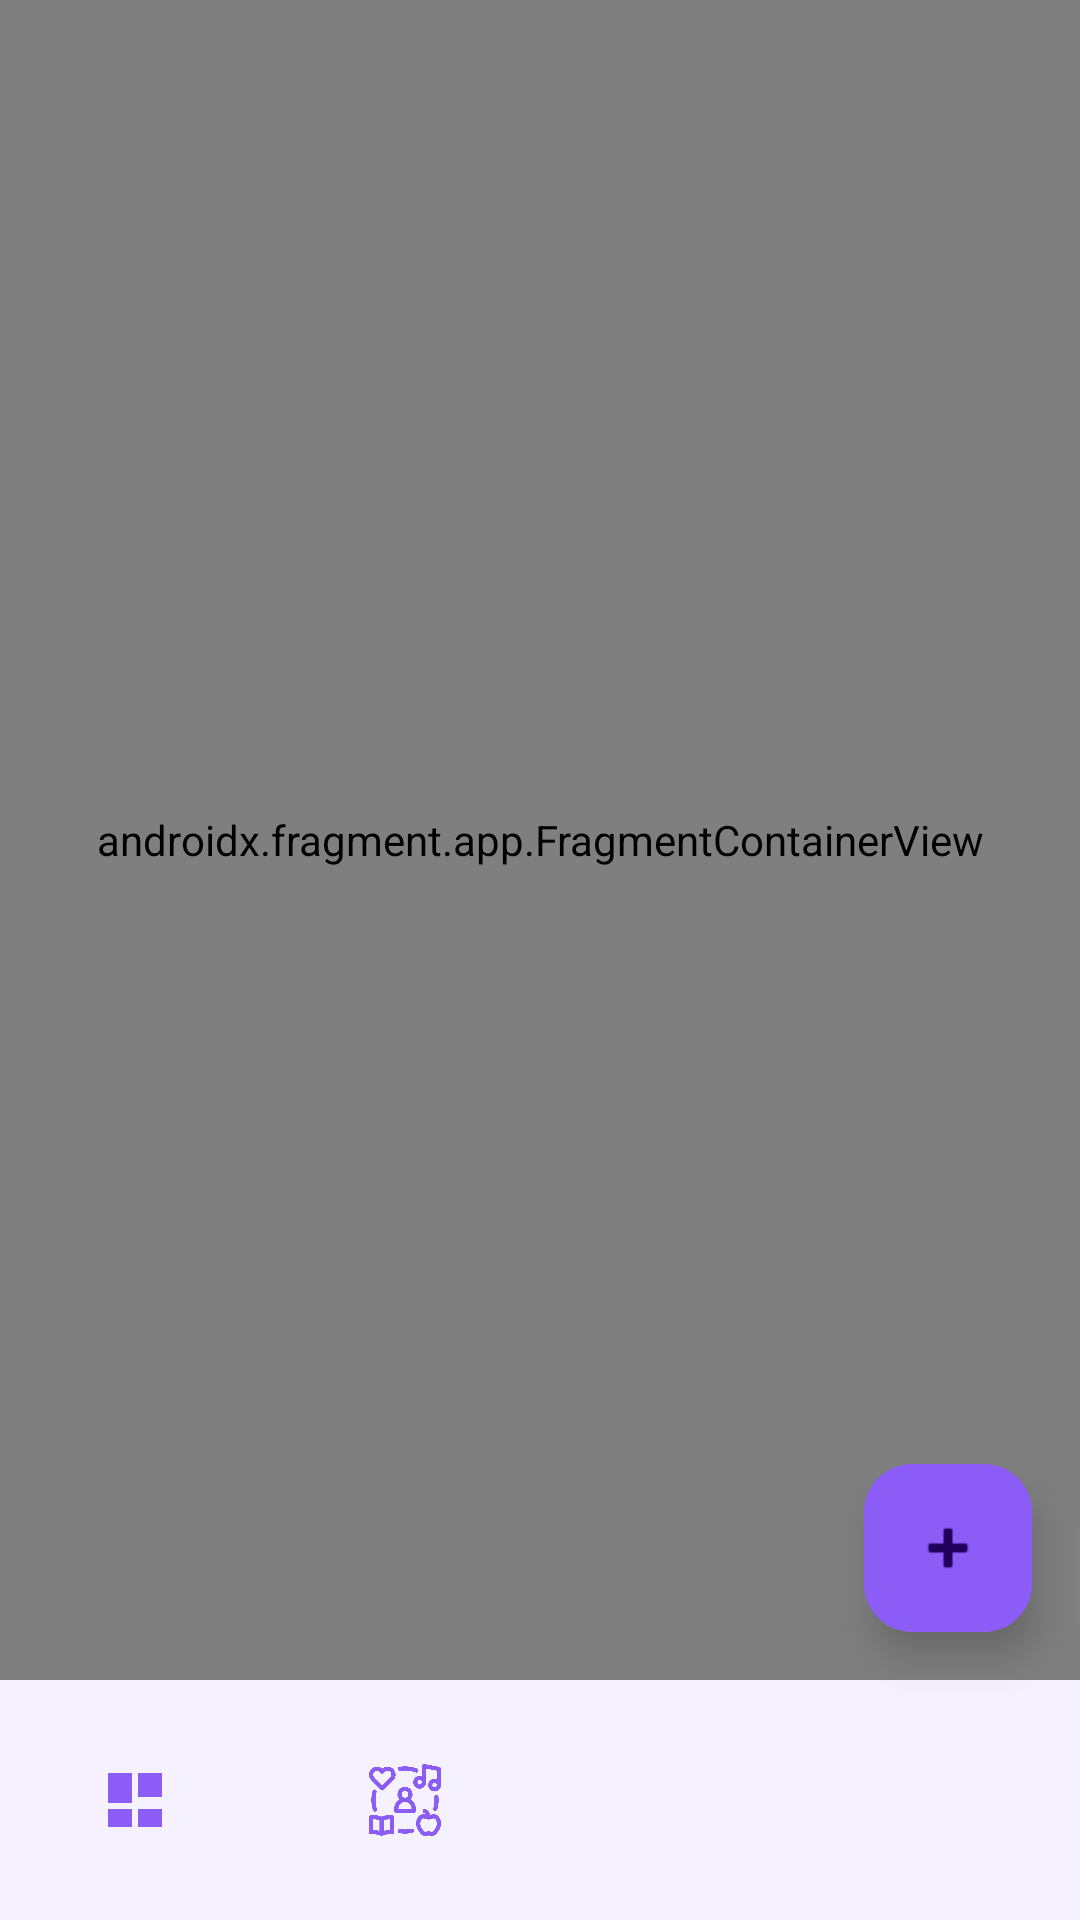

Where to tap for icons on this 1080px×1920px app screen, as point (x, y):
Start Session: point (948, 1548)
